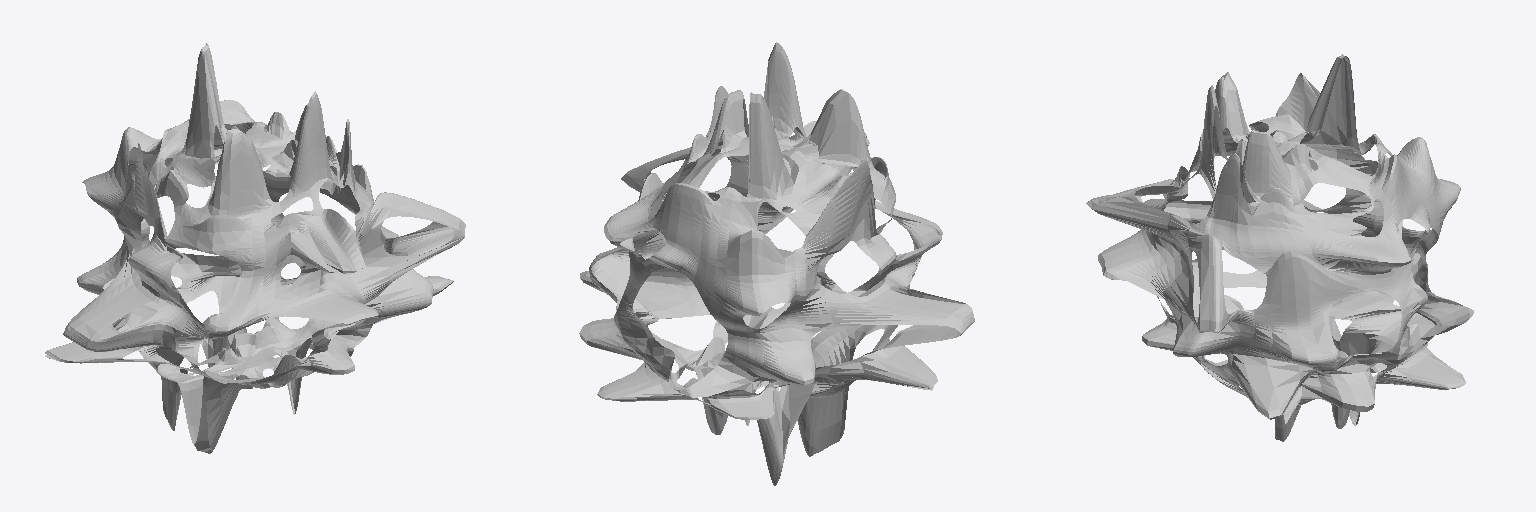
The model's file is 1_graycolor.obj.
3 views of the same model, side by side, from view 1: azimuth 30°, elevation 25°; view 2: azimuth 150°, elevation 25°; view 3: azimuth 270°, elevation 25° (orthographic).
Visible parts, largest first — view 1: object_1; view 2: object_1; view 3: object_1.
Part boxes in pixels (left/top/right/bottom): object_1: left=45, top=43, right=465, bottom=453; object_1: left=579, top=42, right=974, bottom=485; object_1: left=1086, top=54, right=1473, bottom=441.
Bounding box in the file's own units: 89.33 × 85 × 77.94.